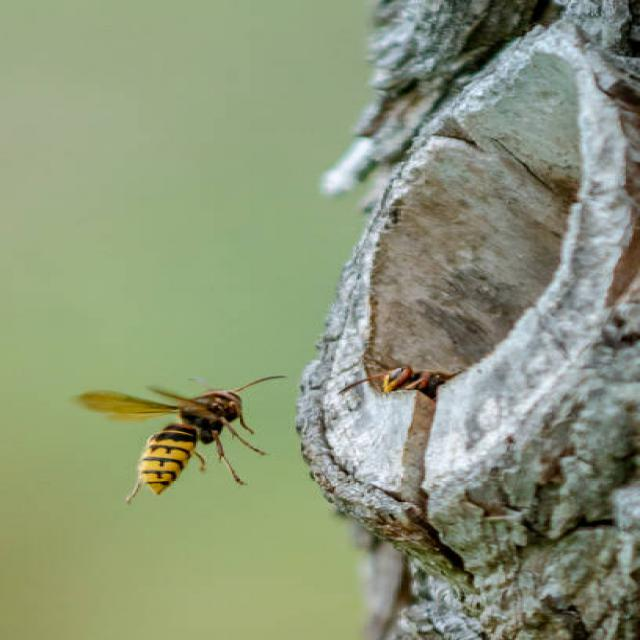Vespa Crabro: (49, 352, 291, 514), (340, 343, 503, 396)
